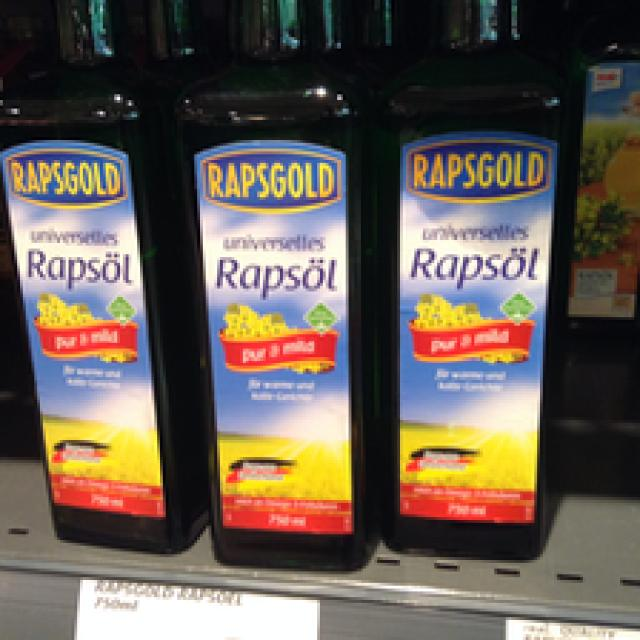groceries: (168, 0, 374, 571), (0, 0, 203, 554), (371, 0, 563, 560)
